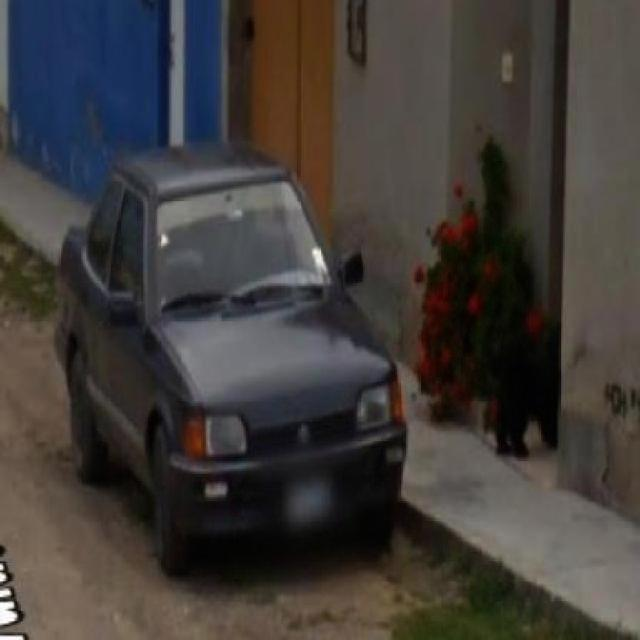car: (56, 138, 410, 570)
